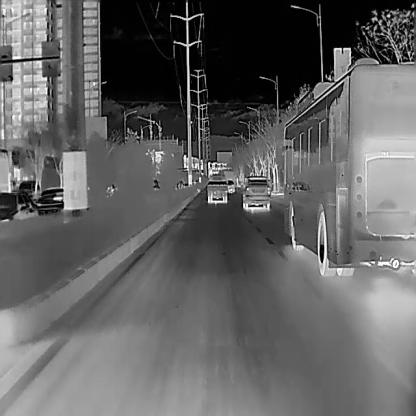bus: (274, 56, 416, 276)
car: (0, 190, 39, 221), (242, 176, 269, 208), (35, 187, 63, 214), (17, 180, 40, 202), (227, 178, 233, 192)
truck: (207, 173, 227, 202)
